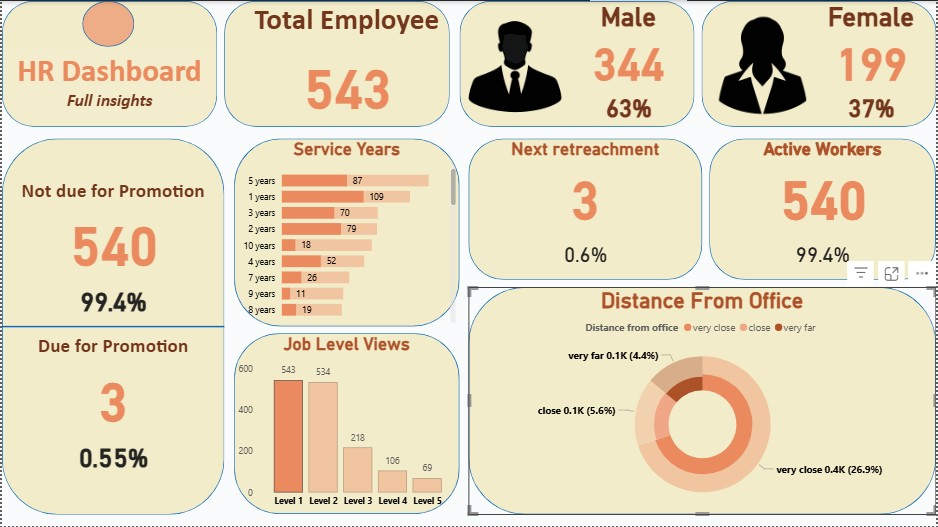

This screenshot's page, from the dashboard's own definition file:
{"tool":"powerbi","page":{"name":"HR Analyist","canvas":[1280,720],"ordinal":0},"visuals":[{"type":"shape","box":[0,0,294.8,172.3],"z":0},{"type":"shape","box":[304.8,0,309.1,172.3],"z":1000},{"type":"shape","box":[626.7,0,321.9,172.3],"z":2000},{"type":"shape","box":[317.6,455.8,309.1,247.8],"z":3000},{"type":"shape","box":[969.9,188,310.5,193.7],"z":4000},{"type":"shape","box":[958.5,0,321.9,172.3],"z":5000},{"type":"shape","box":[317.6,188,309.1,257.8],"z":6000},{"type":"shape","box":[639.5,188,320.5,193.7],"z":7000},{"type":"shape","box":[0,188,304.8,515.6],"z":8000},{"type":"shape","box":[639.5,391.7,640.9,311.9],"z":9000},{"type":"textbox","box":[0,62.7,294.8,109.7],"z":10000},{"type":"shape","box":[109.7,0,71.2,62.7],"z":11000},{"type":"card","title":"Total Employee","fields":{"Values":["All measures.Total_Emp"]},"box":[317.6,0,309.1,172.3],"z":12000},{"type":"card","title":"Male","fields":{"Values":["All measures.Males"]},"box":[769.1,0,179.5,116.8],"z":13000},{"type":"card","title":"Female","fields":{"Values":["All measures.Females"]},"box":[1102.4,0,178,116.8],"z":14000},{"type":"card","fields":{"Values":["All measures.Male %"]},"box":[769.1,116.8,179.5,55.5],"z":15000},{"type":"card","fields":{"Values":["All measures.Females %"]},"box":[1102.4,116.8,178,55.5],"z":16000},{"type":"image","box":[626.6,5.3,151.7,166.3],"z":17000},{"type":"image","box":[960.5,4,163.6,169],"z":18000},{"type":"shape","box":[0,188,304.8,515.6],"z":19000},{"type":"card","fields":{"Values":["All measures.% Due for Promotion"]},"box":[0,589.6,304.8,65.5],"z":20000},{"type":"card","title":"Due for Promotion","fields":{"Values":["All measures.Due for promotion"]},"box":[0,455.8,304.8,133.9],"z":21000},{"type":"card","fields":{"Values":["All measures.% Not Due Promotion"]},"box":[0,376.3,304.8,65.5],"z":22000},{"type":"card","title":"Not due for Promotion","fields":{"Values":["All measures.Not due promotion"]},"box":[0,242.4,304.8,133.9],"z":23000},{"type":"card","title":"Active Workers","fields":{"Values":["All measures.On service"]},"box":[969.9,188,310.5,121.1],"z":24000},{"type":"card","title":"Active Workers","fields":{"Values":["All measures.On service"]},"box":[969.5,188,310.5,121.1],"z":25000},{"type":"card","title":"Next retreachment","fields":{"Values":["All measures.Will be retrenched"]},"box":[639.5,188,320.5,121.1],"z":26000},{"type":"card","fields":{"Values":["All measures.% will be retreachment"]},"box":[639.5,309.1,320.5,72.6],"z":27000},{"type":"card","fields":{"Values":["All measures.% on service"]},"box":[969.9,309.1,310.5,72.6],"z":28000},{"type":"donutChart","title":"Distance From Office","fields":{"Category":["HR Analytics Data2.Distance from office"],"Y":["All measures.Total_Emp"]},"box":[639.5,391.7,640.9,311.9],"z":29000},{"type":"clusteredBarChart","title":"Service Years","fields":{"Category":["HR Analytics Data2.Years_at_company"],"Y":["All measures.Total_Emp"]},"box":[317.6,188,309.1,257.8],"z":30000},{"type":"columnChart","title":"Job Level Views","fields":{"Category":["HR Analytics Data2.Job_level"],"Y":["All measures.Total_Emp"]},"box":[317.6,455.8,309.1,247.8],"z":31000}]}

Visuals, with their boxes in screenshot pixels (x1, y1, x2, y2), scaled from the page's 1280x720 canvas onto the 938x527 screenshot:
shape: x1=0, y1=0, x2=216, y2=126
shape: x1=223, y1=0, x2=450, y2=126
shape: x1=459, y1=0, x2=695, y2=126
shape: x1=233, y1=334, x2=459, y2=515
shape: x1=711, y1=138, x2=937, y2=279
shape: x1=702, y1=0, x2=937, y2=126
shape: x1=233, y1=138, x2=459, y2=326
shape: x1=469, y1=138, x2=704, y2=279
shape: x1=0, y1=138, x2=223, y2=515
shape: x1=469, y1=287, x2=937, y2=515
textbox: x1=0, y1=46, x2=216, y2=126
shape: x1=80, y1=0, x2=133, y2=46
"Total Employee" card: x1=233, y1=0, x2=459, y2=126
"Male" card: x1=564, y1=0, x2=695, y2=85
"Female" card: x1=808, y1=0, x2=937, y2=85
card - All measures.Male %: x1=564, y1=85, x2=695, y2=126
card - All measures.Females %: x1=808, y1=85, x2=937, y2=126
image: x1=459, y1=4, x2=570, y2=126
image: x1=704, y1=3, x2=824, y2=127
shape: x1=0, y1=138, x2=223, y2=515
card - All measures.% Due for Promotion: x1=0, y1=432, x2=223, y2=479
"Due for Promotion" card: x1=0, y1=334, x2=223, y2=432
card - All measures.% Not Due Promotion: x1=0, y1=275, x2=223, y2=323
"Not due for Promotion" card: x1=0, y1=177, x2=223, y2=275
"Active Workers" card: x1=711, y1=138, x2=937, y2=226
"Active Workers" card: x1=710, y1=138, x2=937, y2=226
"Next retreachment" card: x1=469, y1=138, x2=704, y2=226
card - All measures.% will be retreachment: x1=469, y1=226, x2=704, y2=279
card - All measures.% on service: x1=711, y1=226, x2=937, y2=279
"Distance From Office" donutChart: x1=469, y1=287, x2=937, y2=515
"Service Years" clusteredBarChart: x1=233, y1=138, x2=459, y2=326
"Job Level Views" columnChart: x1=233, y1=334, x2=459, y2=515
